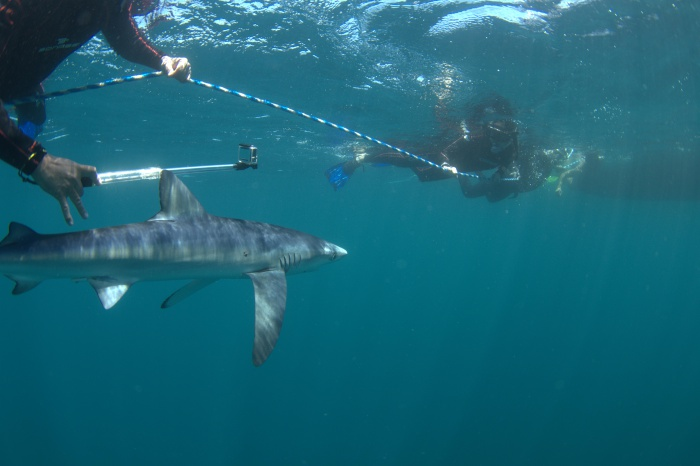Azul: (1, 172, 369, 374)
